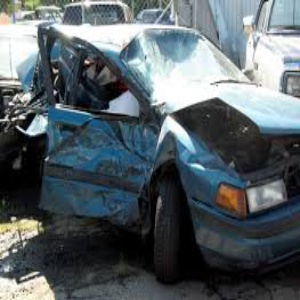door: (46, 113, 150, 220), (198, 87, 300, 139)
